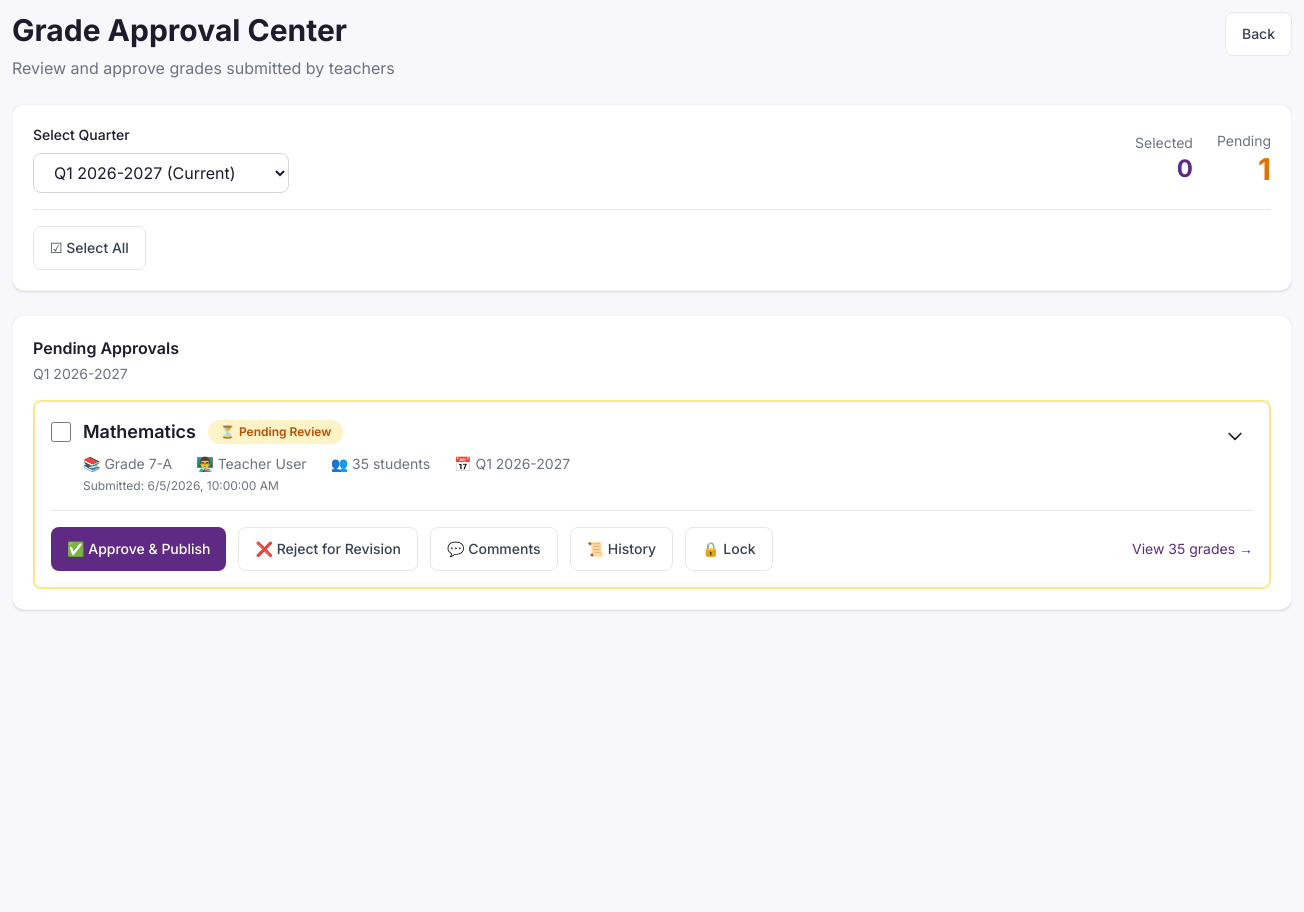
Test: Grade Approval Error Handling › handles network errors during approval
This screenshot has width=1304, height=912.
Check: the heading "Mathematics" is shown, box [83,418,196,446]
Click the button "✅ Approve & Publish" at (139, 549), box [51,527,226,571]
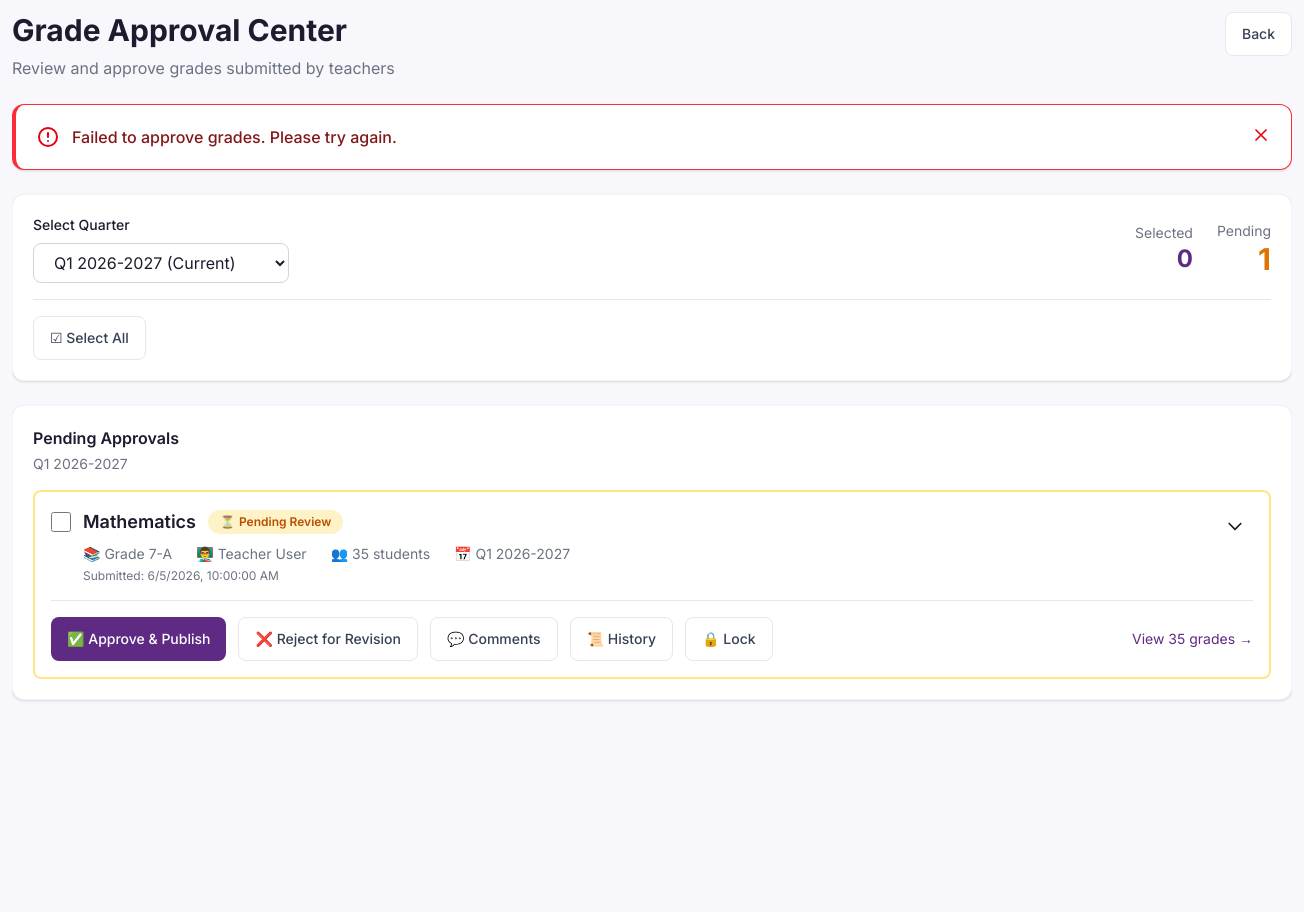
Check: the text "Failed to approve grades. Please try again." is shown, box [72,127,397,147]
